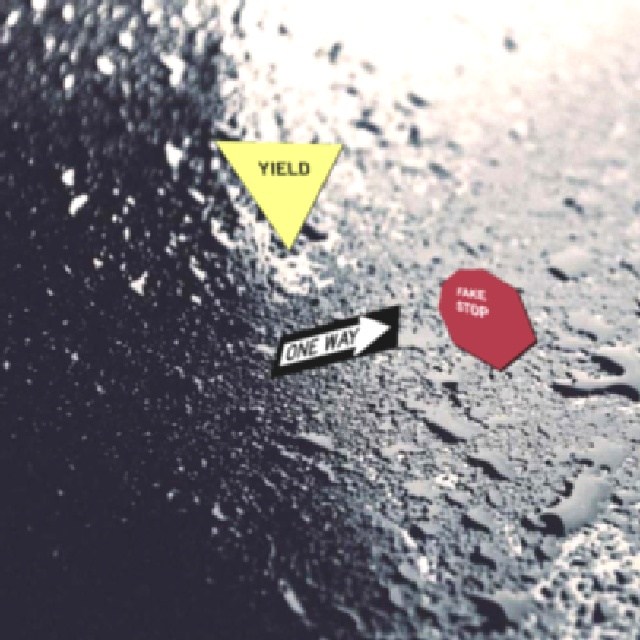FAKE_STOP: (436, 267, 537, 371)
ONE_WAY_ right: (268, 302, 399, 378)
YIELD: (212, 139, 343, 251)
